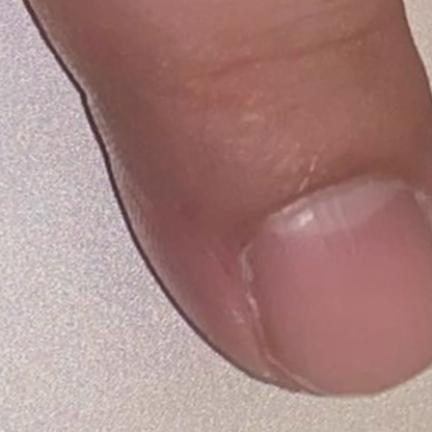Nail: (245, 177, 431, 398)
